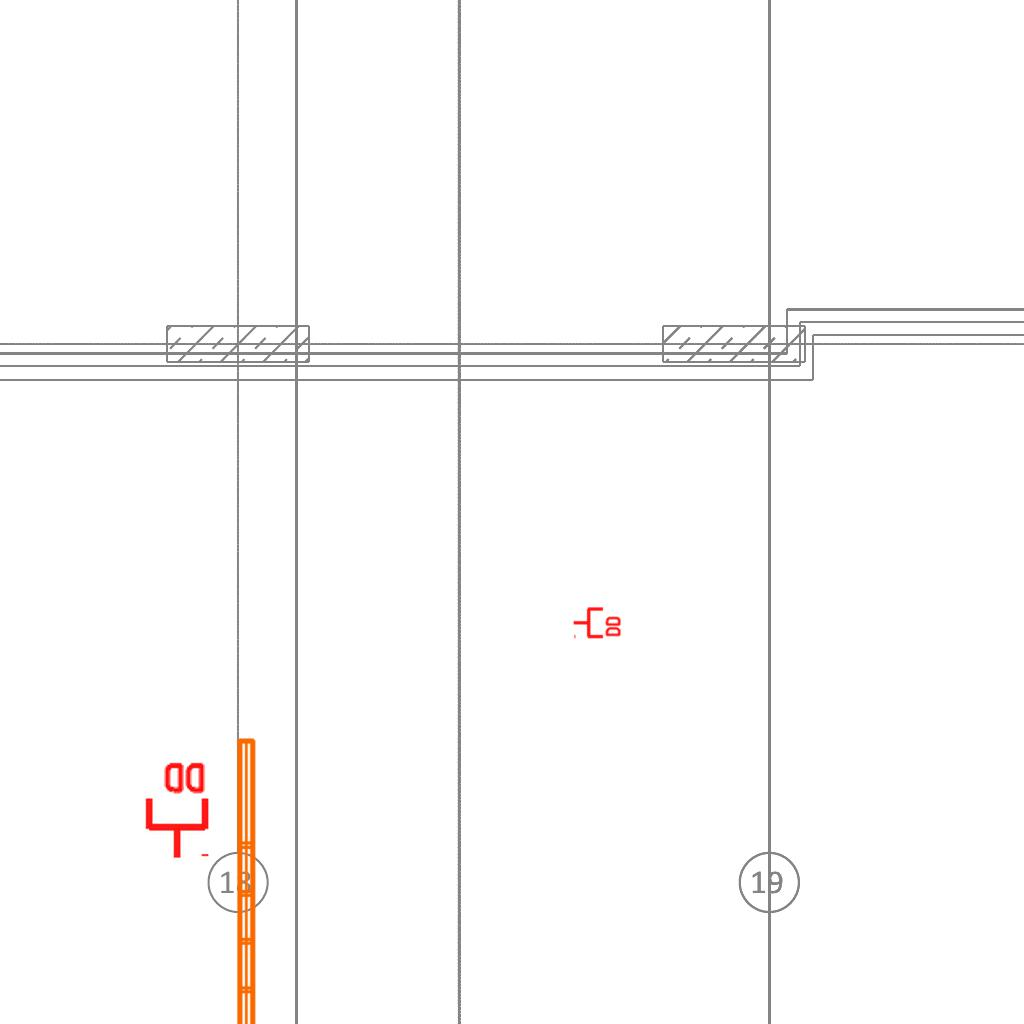Ambulanz_Pendelleuchte_LED: (231, 733, 287, 1024)
Datenanschluss_zweifach: (141, 758, 210, 861), (572, 605, 623, 639)
